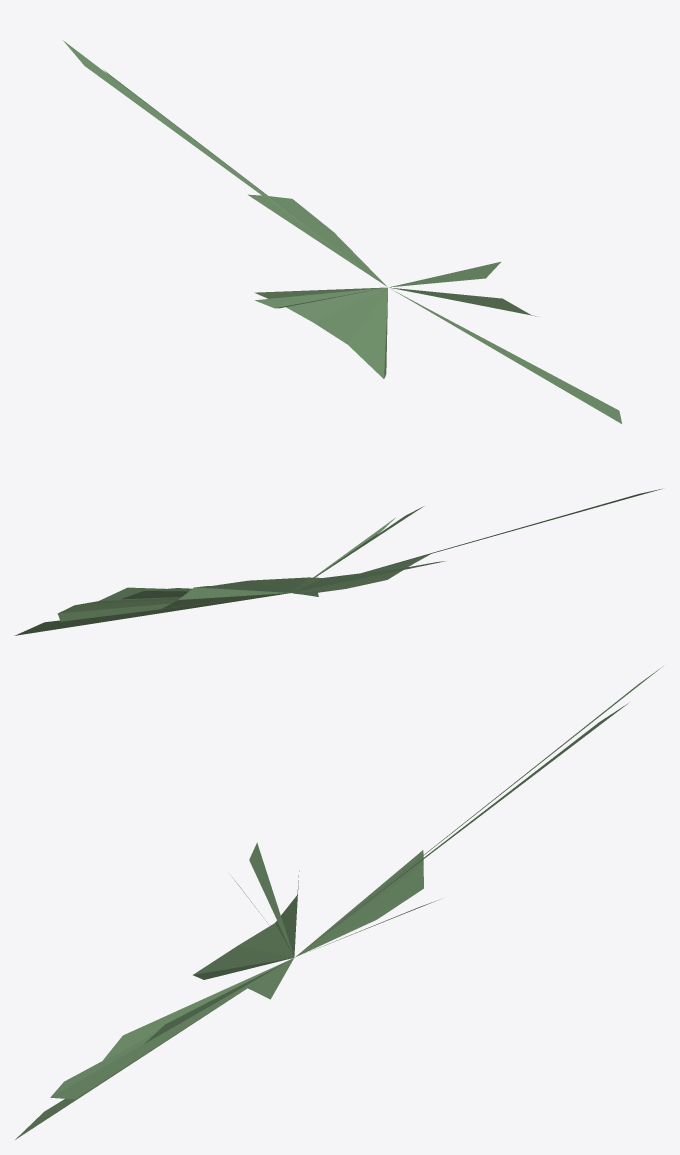
File: c_1670_17822_forest.glb
3 renders of one model, top to bottom at view 1: azimuth 30°, elevation 25°; view 2: azimuth 210°, elevation 25°; view 3: azimuth 270°, elevation 25°, orthographic. The views are drawn at different scales.
Parts seen in each view (by area): view 1: geometry_0; view 2: geometry_0; view 3: geometry_0.
Part boxes in pixels (left/top/right/bottom): geometry_0: left=63, top=40, right=621, bottom=423; geometry_0: left=14, top=488, right=662, bottom=635; geometry_0: left=15, top=666, right=662, bottom=1139.
Bounding box in the file's own units: 280 × 236 × 454.
